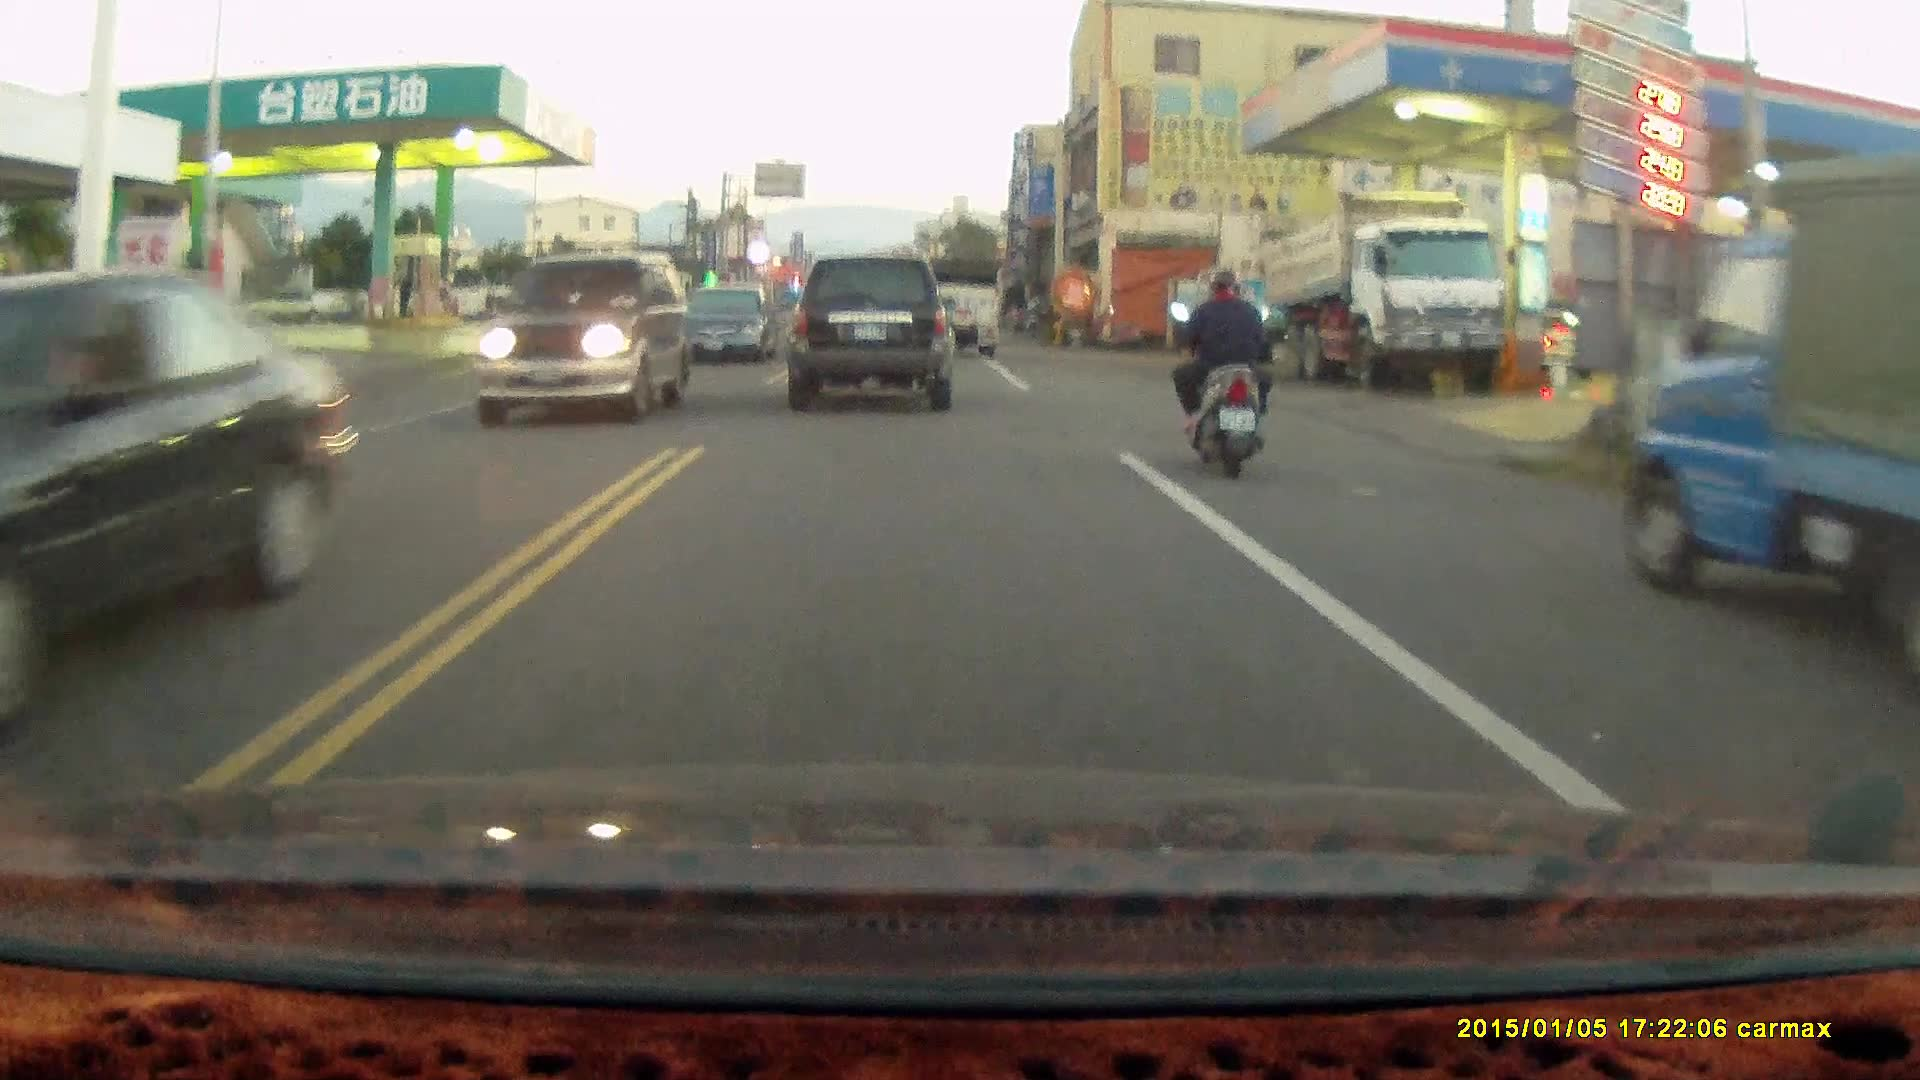rider: (1167, 267, 1274, 481)
vehicle: (1619, 154, 1920, 681), (1, 266, 347, 695), (1253, 189, 1507, 393), (475, 243, 684, 422), (790, 255, 954, 411), (910, 257, 1003, 358), (680, 282, 783, 365)
